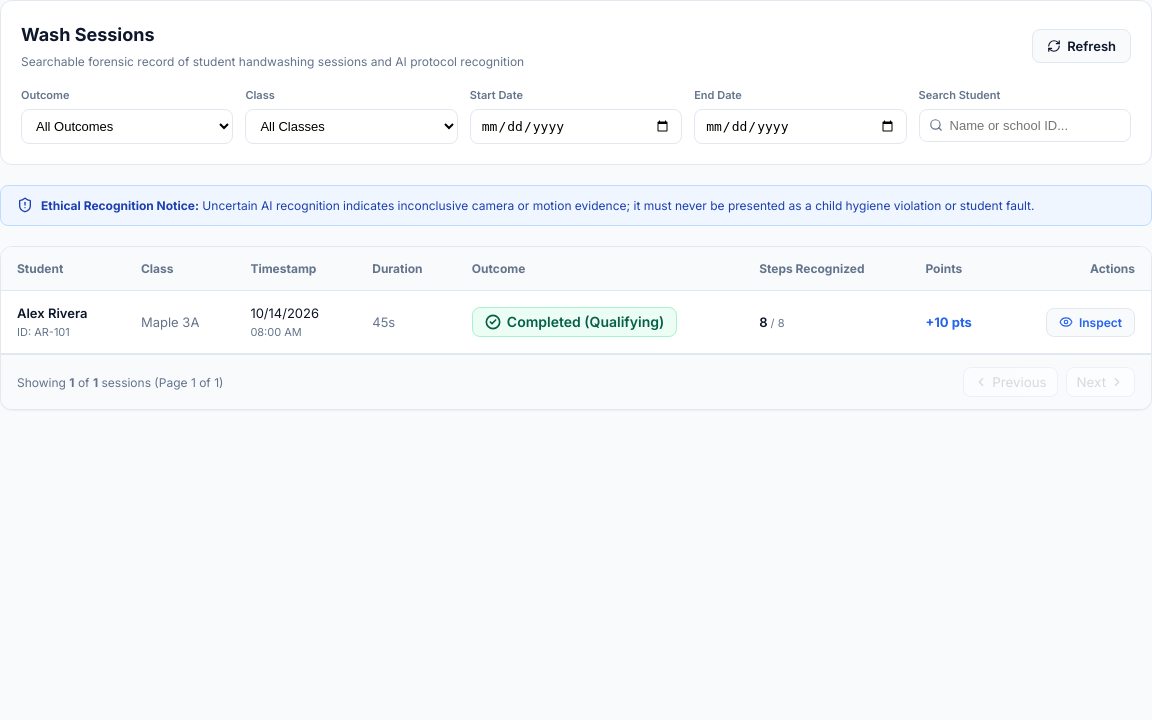
Test case: WashSessionsPage Component › opens session detail dialog upon clicking Inspect
Expected: the text "Alex Rivera" is shown, [17, 305, 87, 321]
Click the button with aria-label "inspect session details for alex rivera" at (1090, 322), box [1046, 308, 1135, 337]
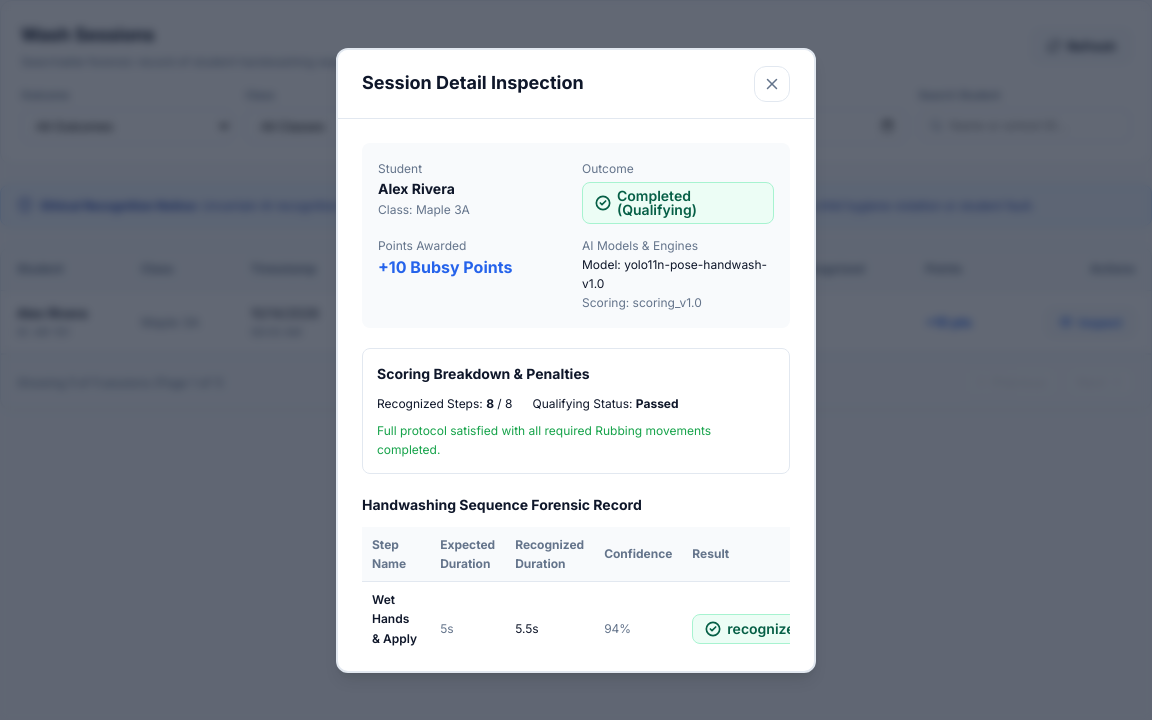
Result: the heading "Session Detail Inspection" is shown at [362, 69, 584, 98]
Result: the text "Model: yolo11n-pose-handwash-v1.0" is shown at [582, 255, 774, 293]
Result: the text "Scoring: scoring_v1.0" is shown at [582, 295, 702, 310]
